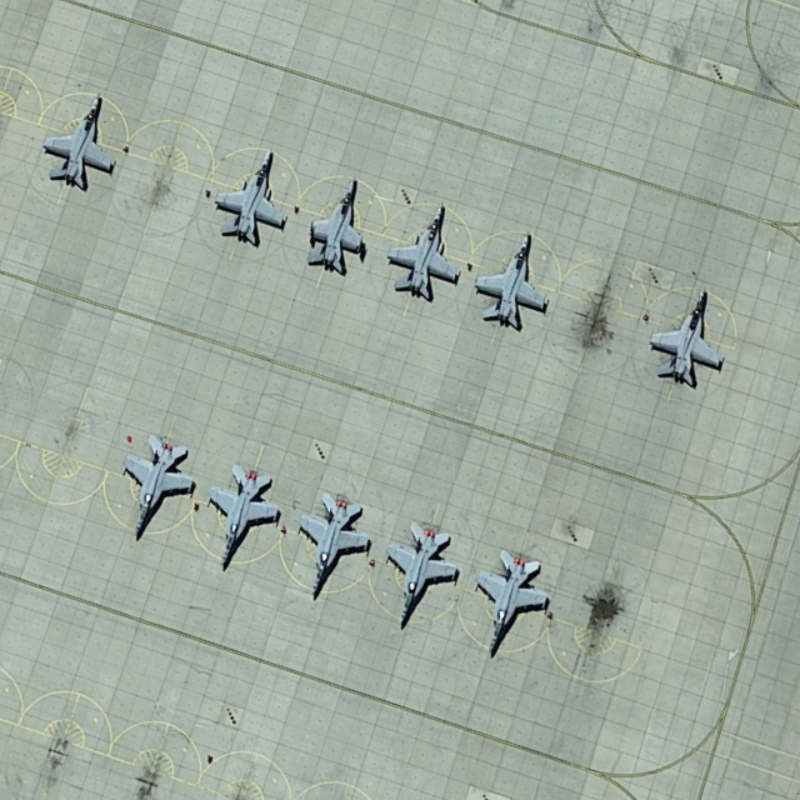A16: (471, 540, 554, 668), (202, 452, 285, 579), (382, 514, 464, 639), (118, 427, 199, 550), (642, 283, 730, 395), (296, 484, 377, 605), (383, 191, 464, 309), (472, 225, 554, 337), (37, 86, 119, 196), (208, 146, 291, 251), (299, 172, 370, 283)
